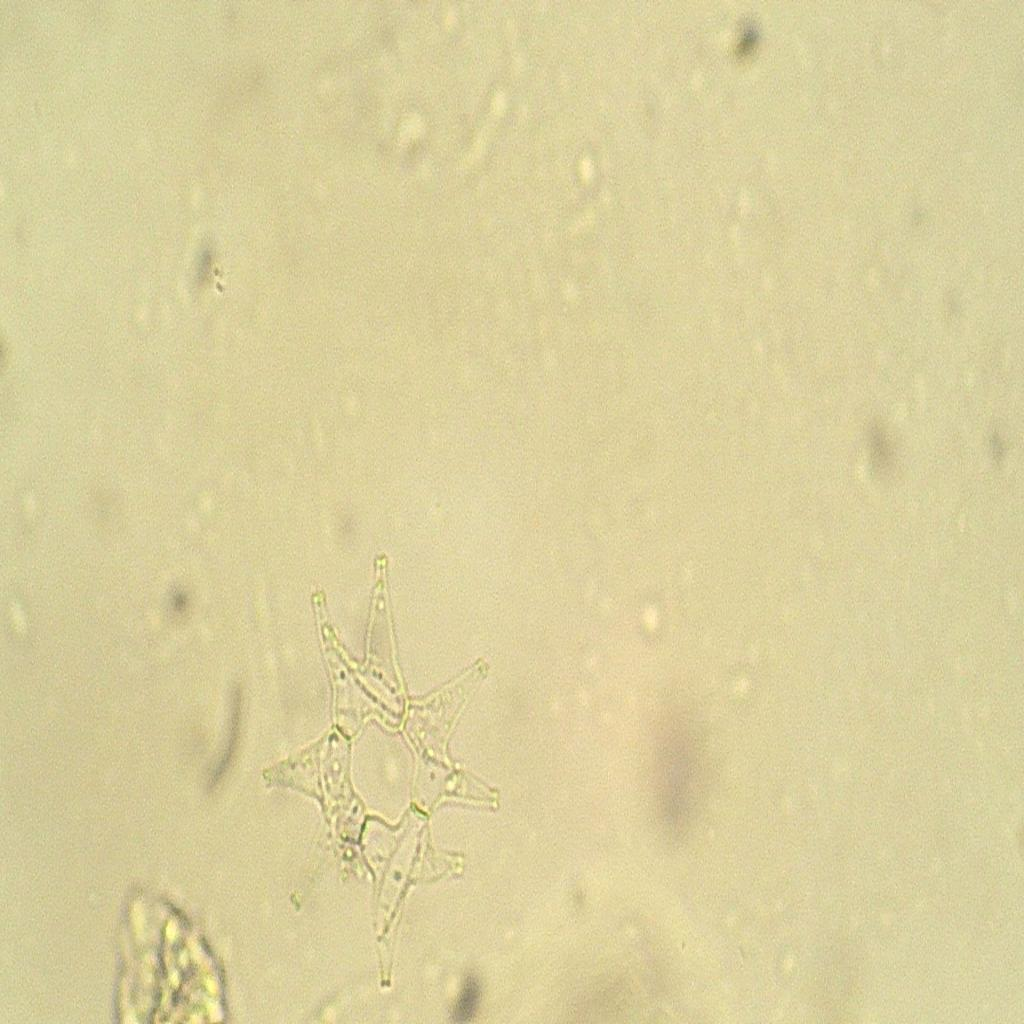Pediastrum_1F0: (243, 524, 532, 1004)
